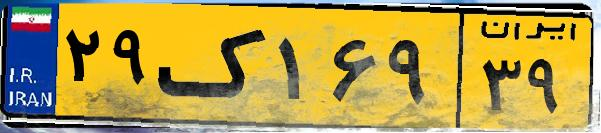1: (270, 28, 330, 110)
2: (57, 26, 110, 100)
3: (475, 38, 525, 113)
6: (330, 28, 385, 110)
9: (385, 28, 445, 110), (525, 38, 570, 115), (110, 28, 158, 98)
ک: (158, 12, 270, 120)
